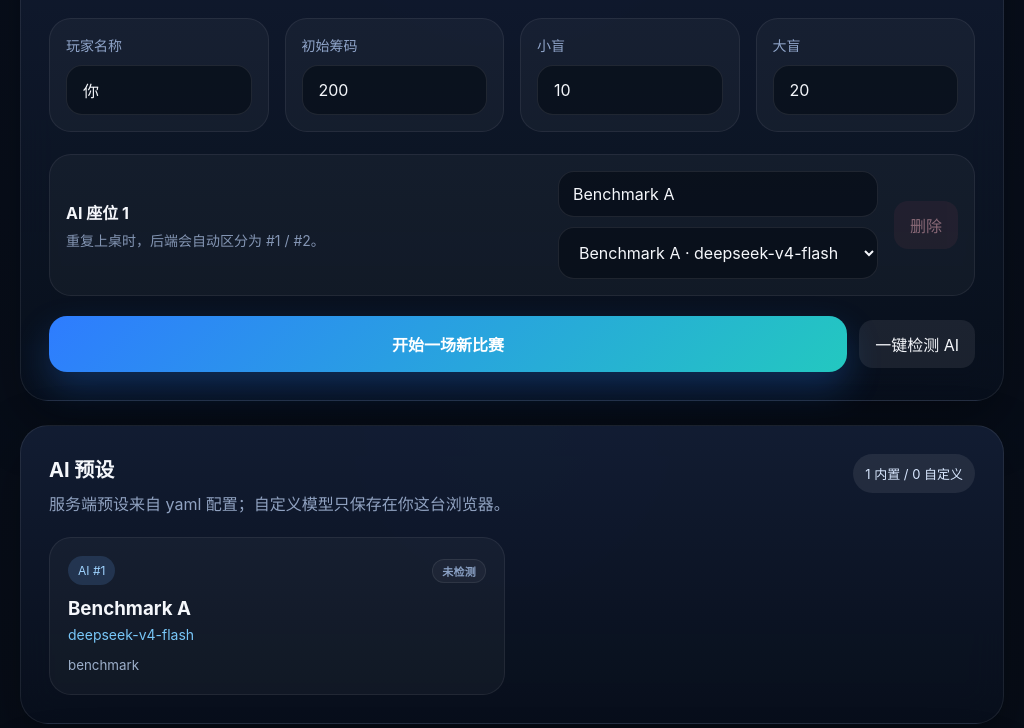
Test case: App flow › creates a match without crashing when board is null
The image size is (1024, 728).
(page scrolled)
Click the button "开始一场新比赛" at (448, 344), box [49,316,847,372]
(page scrolled)
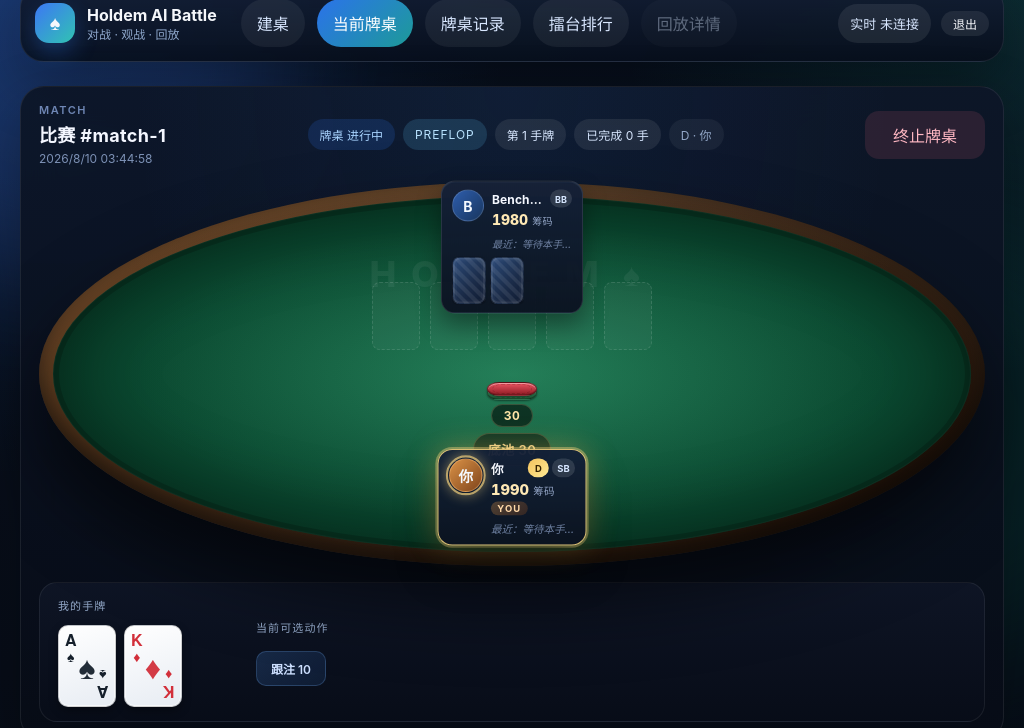
Check: the text "比赛 #match-1" is shown, box [39,121,166,147]
Check: the text "第 1 手牌" is shown, box [495,119,566,150]
